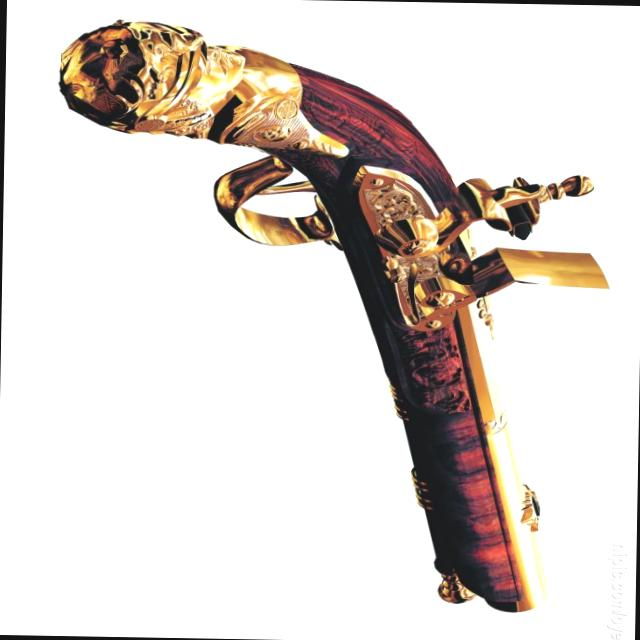handgun: (48, 17, 616, 617)
